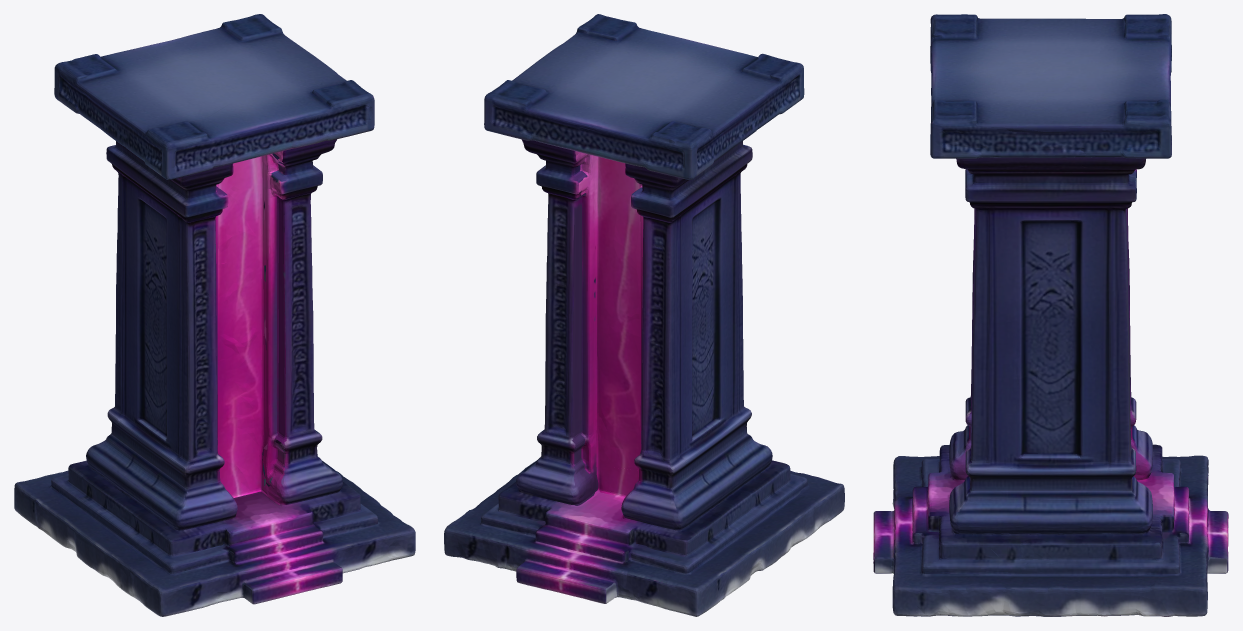
The model's file is weathered-monolith-pillar-generated-2026-04-19T23-30-13-924Z.high.glb.
3 views of the same model, side by side, from view 1: azimuth 30°, elevation 25°; view 2: azimuth 150°, elevation 25°; view 3: azimuth 270°, elevation 25° (orthographic). The views are drawn at different scales.
Parts seen in each view (by area): view 1: temp_mesh.ply; view 2: temp_mesh.ply; view 3: temp_mesh.ply.
Boxes of the visible parts, bbox=[...] form: temp_mesh.ply: bbox=[14, 14, 415, 616]; temp_mesh.ply: bbox=[444, 14, 844, 616]; temp_mesh.ply: bbox=[873, 14, 1228, 616].
Size of the model in its own units: 1.17 by 1.97 by 1.31.
1 material, 1 textured.
